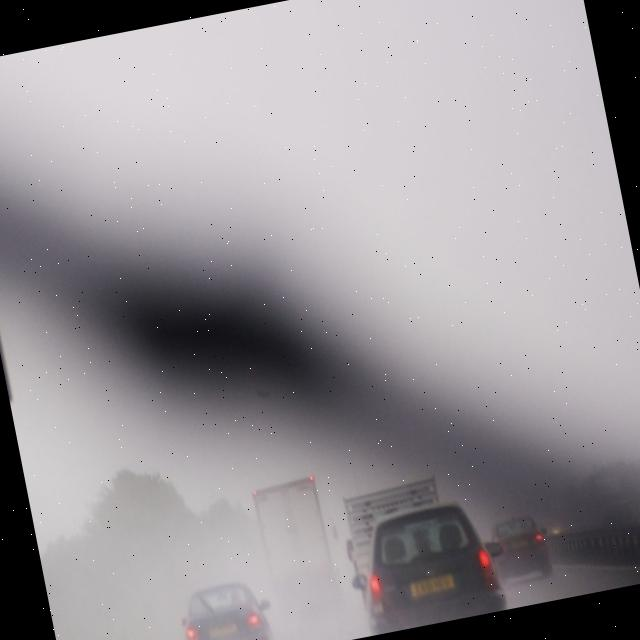bus: (334, 480, 458, 614), (250, 469, 346, 640)
car: (350, 492, 508, 632), (173, 576, 279, 640), (488, 511, 556, 585)
